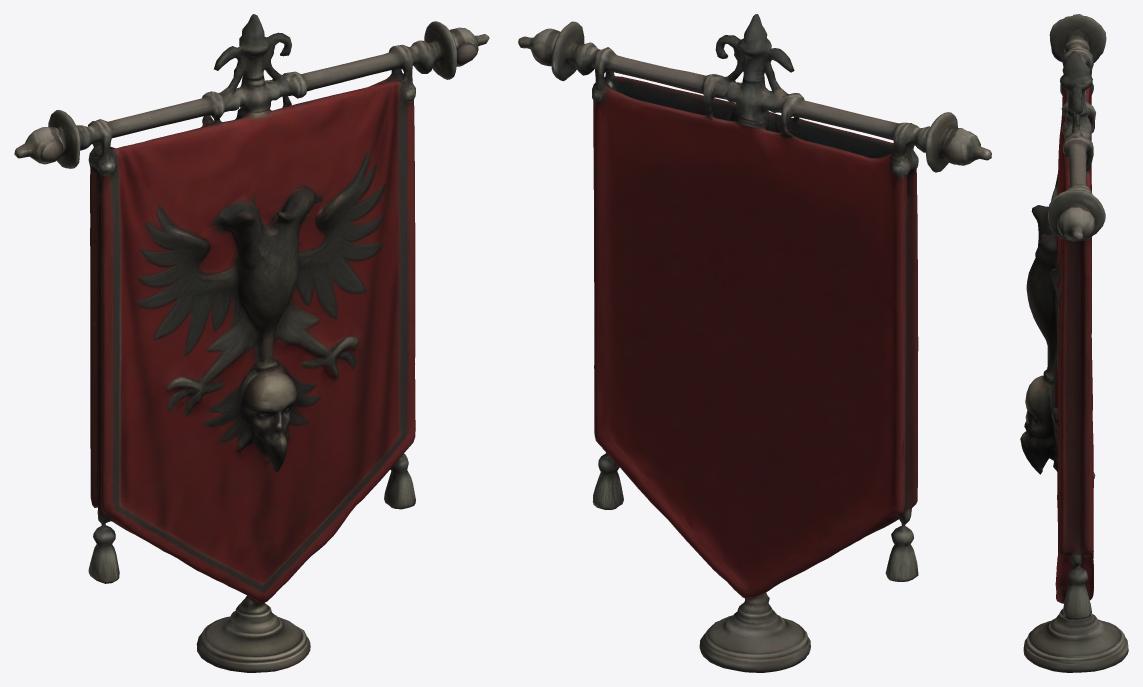
Rendered from family_banner_red.glb.
3 renders of one model, left to right at view 1: azimuth 30°, elevation 25°; view 2: azimuth 150°, elevation 25°; view 3: azimuth 270°, elevation 25°, orthographic. The views are drawn at different scales.
Size of the model in its own units: 1.55 by 2 by 0.3269.
Materials: 1 (1 with a texture image).
